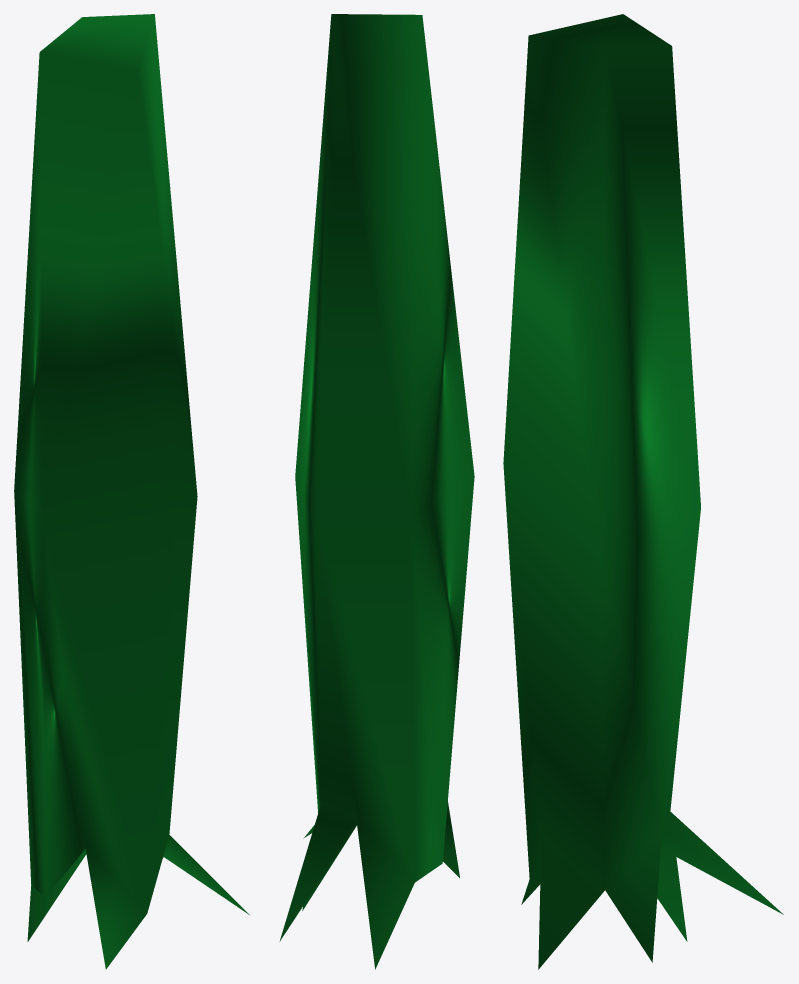
Rendered from SeguaroCactusMedium2_LOD2.obj.
3 renders of one model, left to right at view 1: azimuth 30°, elevation 25°; view 2: azimuth 150°, elevation 25°; view 3: azimuth 270°, elevation 25°, orthographic. The views are drawn at different scales.
Visible parts, largest first — view 1: SeguaroCactusMedium2_LOD2; view 2: SeguaroCactusMedium2_LOD2; view 3: SeguaroCactusMedium2_LOD2.
Boxes of the visible parts, x1,y1,x2,y2 form: SeguaroCactusMedium2_LOD2: [14, 14, 249, 969]; SeguaroCactusMedium2_LOD2: [279, 14, 474, 969]; SeguaroCactusMedium2_LOD2: [503, 14, 783, 969].
Bounding box in the file's own units: 65.83 × 307 × 83.34.
